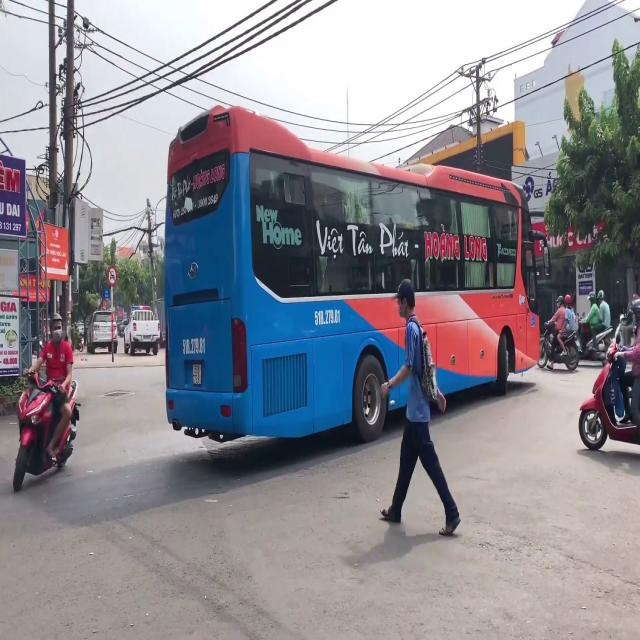bien_trang: (191, 362, 202, 388)
